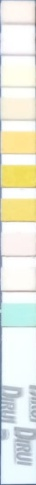color 1: (2, 4, 34, 21)
color 10: (2, 305, 36, 324)
color 2: (2, 36, 33, 53)
color 3: (2, 66, 33, 84)
color 4: (2, 100, 34, 117)
color 5: (2, 134, 35, 152)
color 6: (2, 168, 36, 184)
color 7: (2, 201, 36, 220)
color 8: (2, 235, 36, 254)
color 9: (2, 269, 36, 289)
